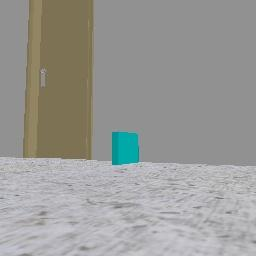turcoaz: (112, 131, 138, 164)
